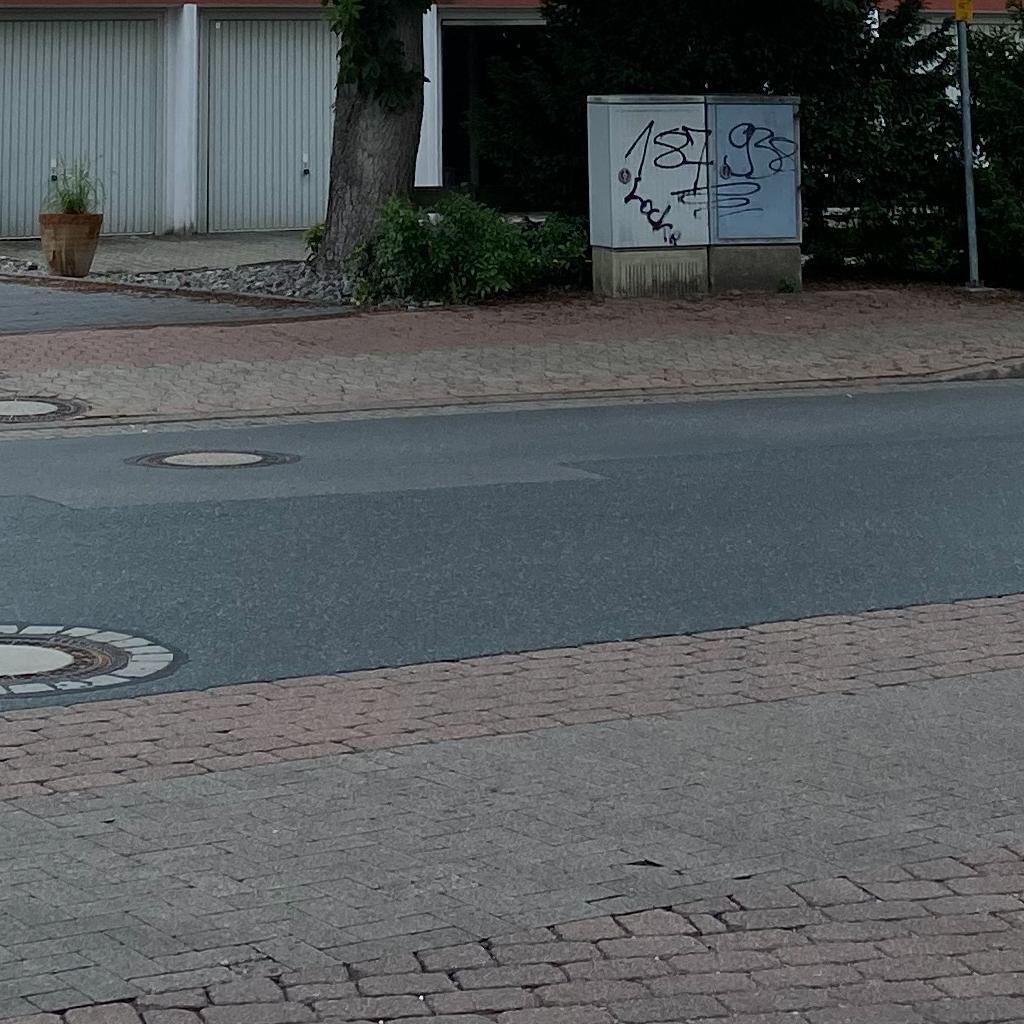tree: (297, 1, 445, 296)
